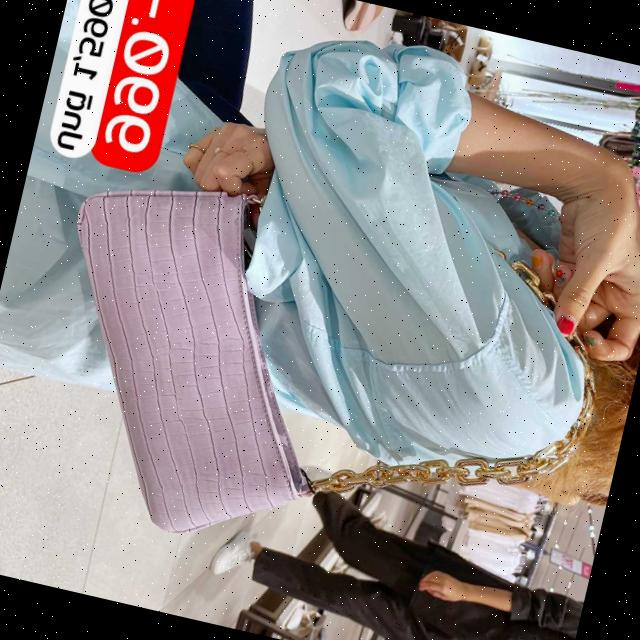Handbag: (0, 142, 378, 567)
